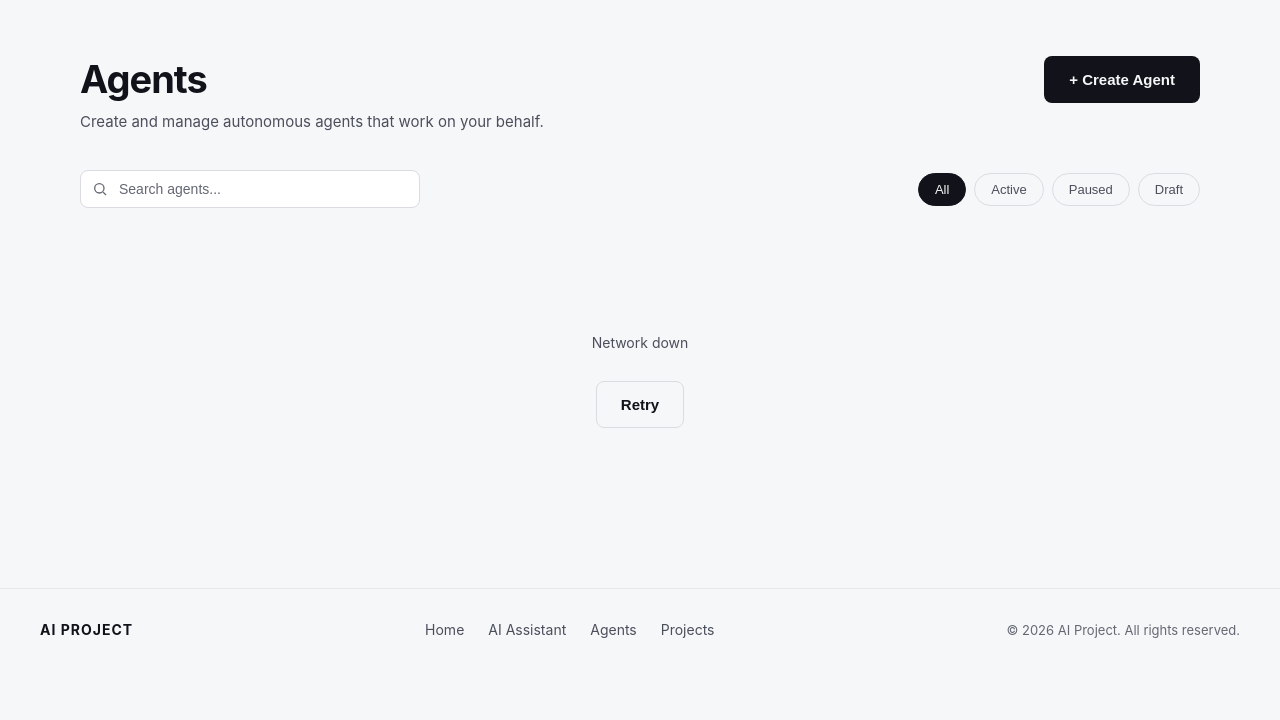
Test: Agents — list query › re-fetches and renders the list when Retry is clicked after a failure
Check: the text "Network down" is shown, box x1=592 y1=334 x2=688 y2=351
Click the button "Retry": coordinates (640, 404) x1=596 y1=381 x2=684 y2=428
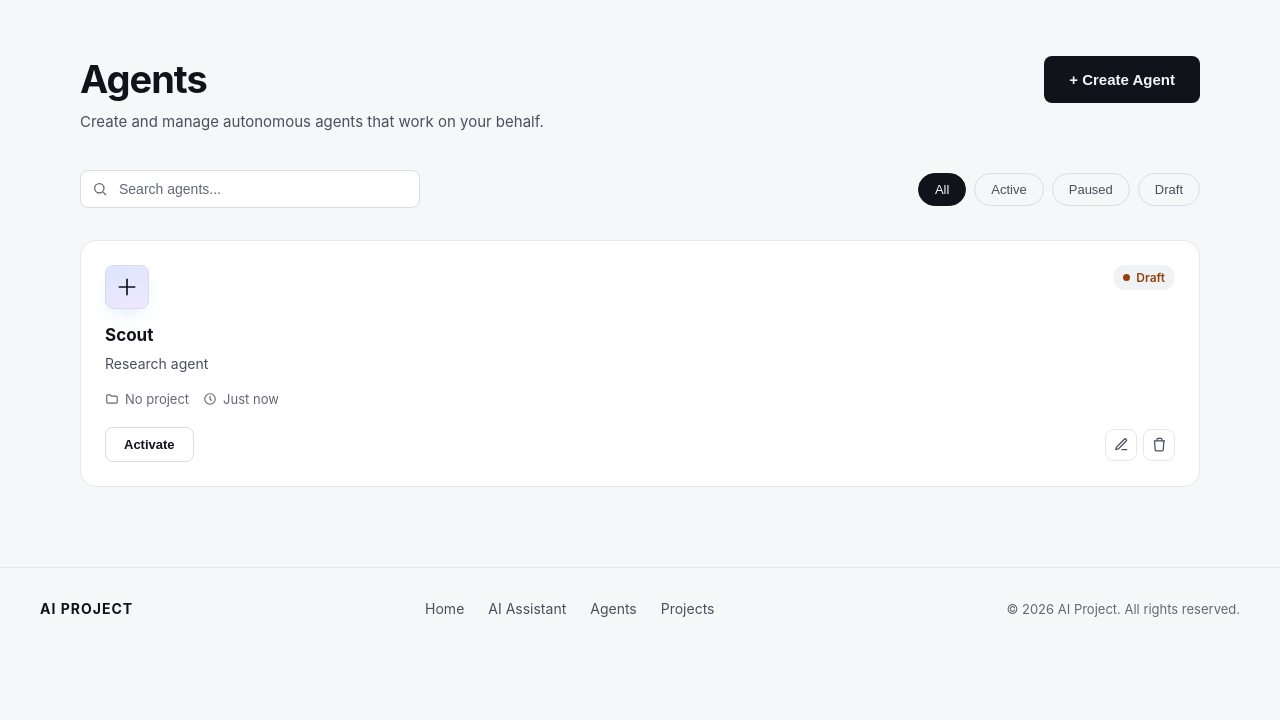
Check: the heading "Scout" is shown, box x1=105 y1=325 x2=153 y2=345
Check: the text "Network down" is gone
